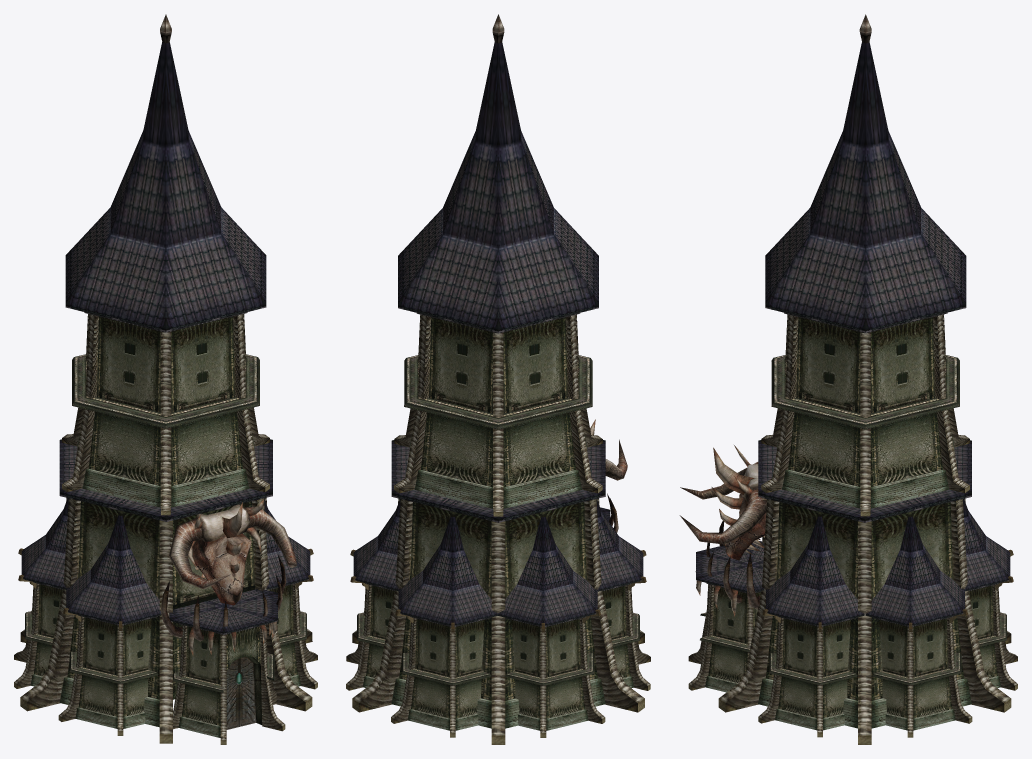
File: ob-11-01-skeletontower01.glb
3 renders of one model, left to right at view 1: azimuth 30°, elevation 25°; view 2: azimuth 150°, elevation 25°; view 3: azimuth 270°, elevation 25°, orthographic.
Parts seen in each view (by area): view 1: ob-11-01-skeletontower01, ob-11-01-skeletontower02, ob-11-03-bonetunnel; view 2: ob-11-01-skeletontower01, ob-11-01-skeletontower02, ob-11-03-bonetunnel; view 3: ob-11-01-skeletontower01, ob-11-01-skeletontower02, ob-11-03-bonetunnel.
Boxes of the visible parts, x1,y1,x2,y2 form: ob-11-01-skeletontower01: [21, 14, 310, 737]; ob-11-01-skeletontower02: [14, 314, 317, 744]; ob-11-03-bonetunnel: [160, 499, 296, 655]; ob-11-01-skeletontower01: [353, 14, 643, 730]; ob-11-01-skeletontower02: [346, 314, 650, 744]; ob-11-03-bonetunnel: [590, 419, 627, 532]; ob-11-01-skeletontower01: [696, 14, 1010, 730]; ob-11-01-skeletontower02: [688, 314, 1017, 744]; ob-11-03-bonetunnel: [679, 445, 766, 616].
Size of the model in its own units: 23.98 by 53.04 by 24.64.
Materials: 3 (3 with a texture image).
